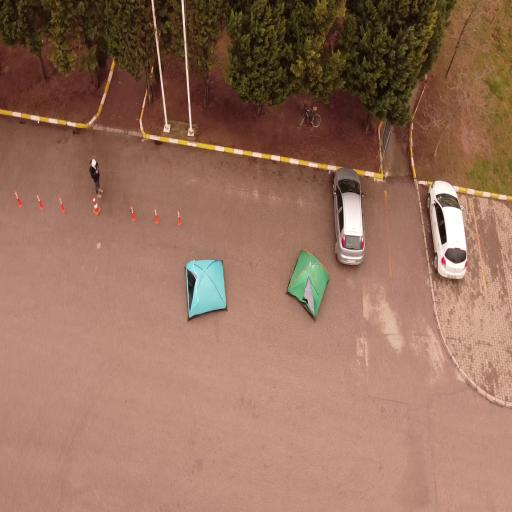tent: (286, 241, 330, 319), (182, 258, 232, 321)
